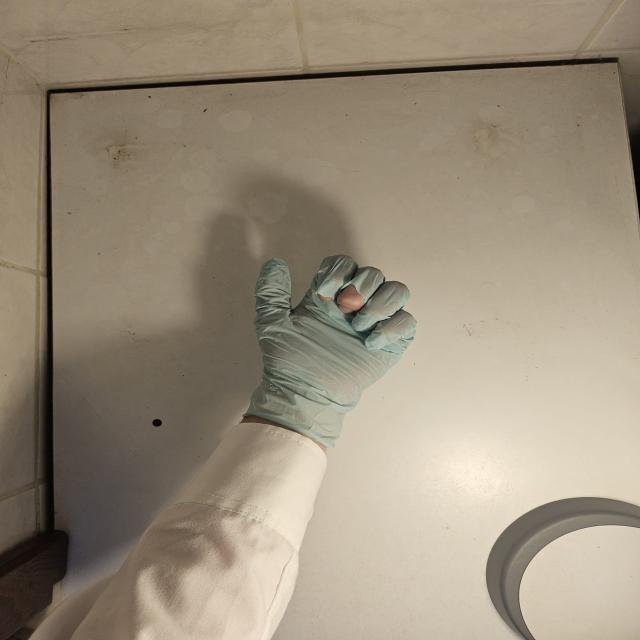gloves_damaged: (249, 249, 422, 452)
